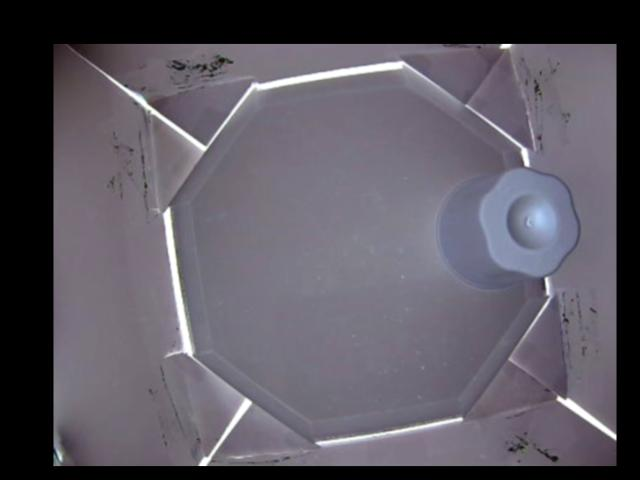Cup: (433, 168, 583, 287)
